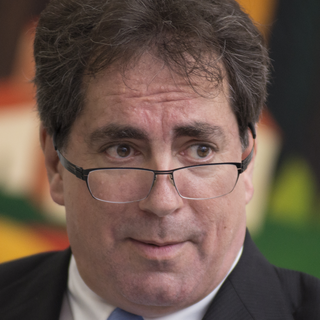eye: (96, 138, 143, 163), (175, 138, 219, 164)
